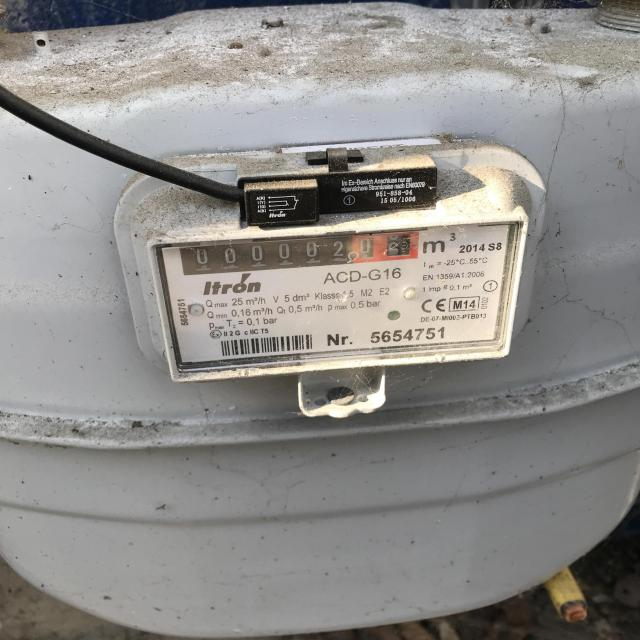gaz_meter: (149, 217, 518, 379)
indication: (176, 229, 421, 274)
